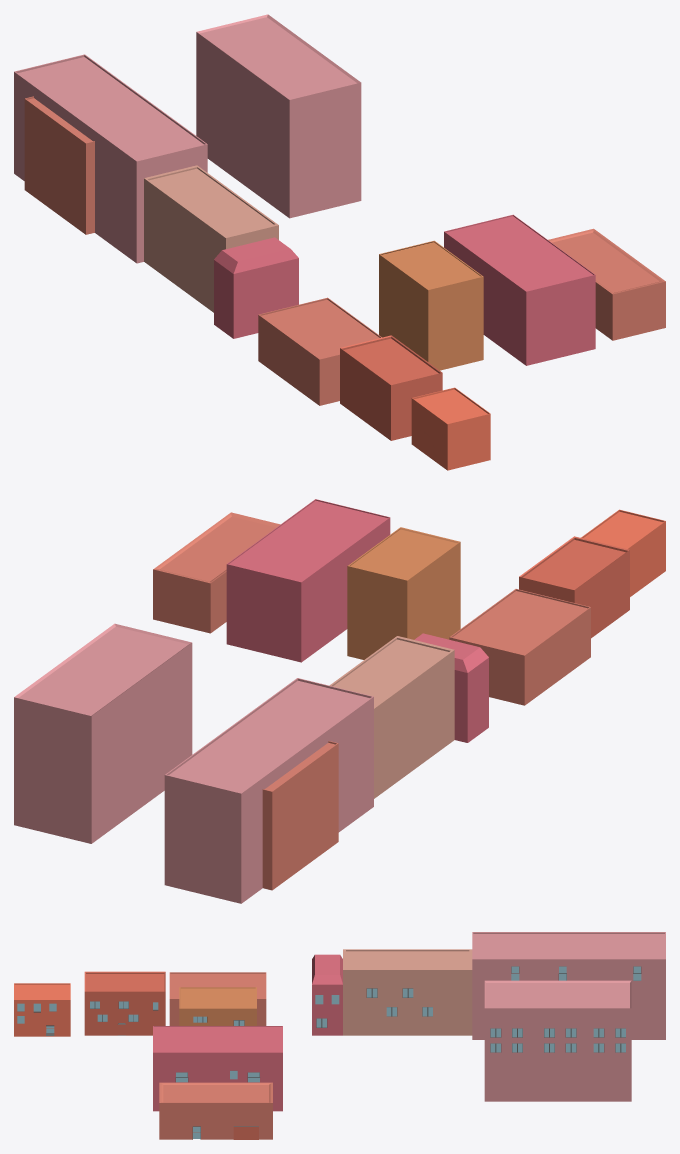
Rendered from Bâtiments.fbx.
3 views of the same model, one above another, from view 1: azimuth 30°, elevation 25°; view 2: azimuth 150°, elevation 25°; view 3: azimuth 270°, elevation 25° (orthographic). The views are drawn at different scales.
Visible parts, largest first — view 1: Batiment10, Batiment6, Batiment8, Batiment5, Batiment7, Batiment3, Batiment2, Batiment9, Batiment4, Batiment1, Batiment3.002, Batiment3.001; view 2: Batiment10, Batiment6, Batiment8, Batiment7, Batiment5, Batiment3, Batiment9, Batiment2, Batiment3.002, Batiment3.001, Batiment1, Batiment4; view 3: Batiment10, Batiment6, Batiment5, Batiment8, Batiment9, Batiment2, Batiment1, Batiment7, Batiment4, Batiment3.
Part boxes in pixels (bbox=[...]): Batiment10: bbox=[196, 14, 361, 218]; Batiment6: bbox=[14, 54, 207, 263]; Batiment8: bbox=[444, 214, 595, 365]; Batiment5: bbox=[144, 165, 278, 312]; Batiment7: bbox=[379, 240, 483, 370]; Batiment3: bbox=[258, 297, 381, 405]; Batiment2: bbox=[340, 335, 442, 440]; Batiment9: bbox=[548, 228, 665, 340]; Batiment4: bbox=[214, 237, 298, 338]; Batiment1: bbox=[411, 387, 490, 470]; Batiment3.002: bbox=[24, 96, 94, 189]; Batiment3.001: bbox=[24, 144, 94, 234]; Batiment10: bbox=[14, 623, 192, 843]; Batiment6: bbox=[164, 678, 373, 903]; Batiment8: bbox=[226, 499, 390, 662]; Batiment7: bbox=[347, 527, 460, 659]; Batiment5: bbox=[329, 636, 454, 798]; Batiment3: bbox=[449, 589, 590, 705]; Batiment9: bbox=[153, 512, 280, 633]; Batiment2: bbox=[519, 536, 629, 638]; Batiment3.002: bbox=[262, 741, 338, 841]; Batiment3.001: bbox=[262, 792, 338, 890]; Batiment1: bbox=[581, 509, 665, 596]; Batiment4: bbox=[414, 633, 488, 742]; Batiment10: bbox=[484, 980, 631, 1101]; Batiment6: bbox=[472, 932, 665, 1039]; Batiment5: bbox=[343, 949, 472, 1035]; Batiment8: bbox=[153, 1026, 282, 1111]; Batiment9: bbox=[159, 1082, 272, 1139]; Batiment2: bbox=[84, 971, 165, 1035]; Batiment1: bbox=[14, 983, 70, 1036]; Batiment7: bbox=[179, 987, 256, 1025]; Batiment4: bbox=[312, 954, 342, 1035]; Batiment3: bbox=[169, 972, 266, 1025].
Bounding box in the file's own units: 3839 × 1279 × 8076.
